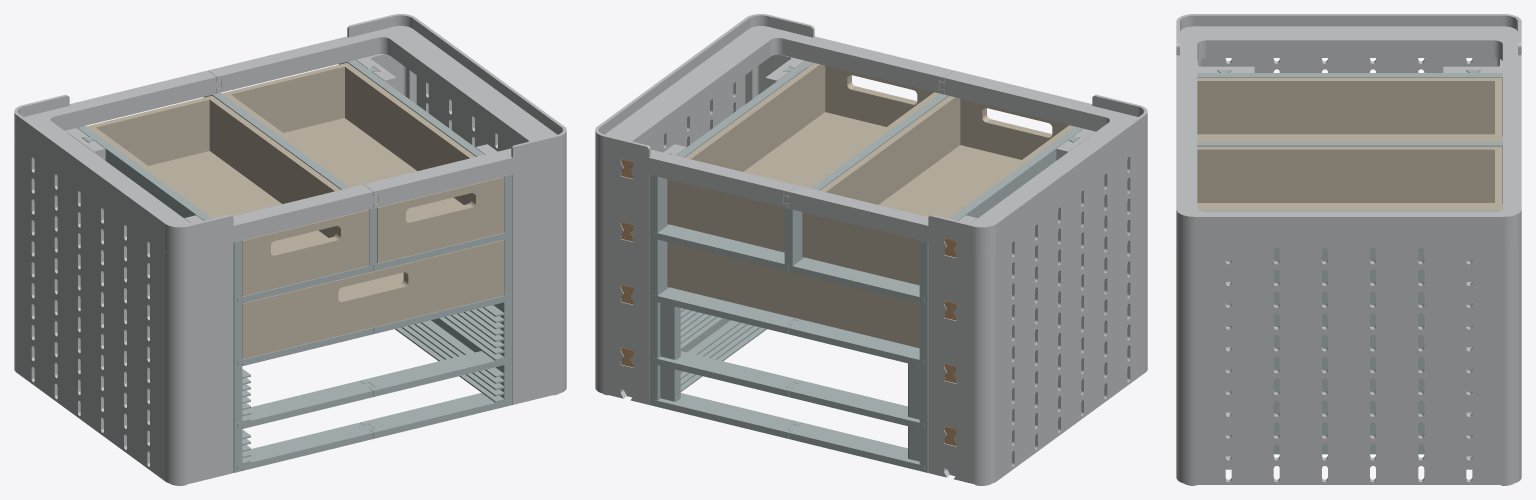
File: overstack-no-ht-pegboard.glb
3 views of the same model, side by side, from view 1: azimuth 30°, elevation 25°; view 2: azimuth 150°, elevation 25°; view 3: azimuth 270°, elevation 25° (orthographic). The views are drawn at different scales.
Visible parts, largest first — view 1: 2-drawer-layer__drawer_2, 2-drawer-layer__drawer_1, device-top__top_2, device-top__top_1, 1-drawer-layer__drawer_half_1, 2-drawer-layer__end_left_1, 1-drawer-layer__end_left_1, 8-slot-plate-layer__end_left, 5-slot-plate-layer__end_left, 2-drawer-layer__end_right_1, 8-slot-plate-layer__end_right, 1-drawer-layer__end_right_1 (+17 smaller); view 2: 2-drawer-layer__drawer_2, 2-drawer-layer__drawer_1, device-top__top_2, device-top__top_1, 2-drawer-layer__end_left_1, 1-drawer-layer__end_left_1, 8-slot-plate-layer__end_left, 1-drawer-layer__drawer_half_2, 5-slot-plate-layer__end_left, 2-drawer-layer__end_right_1, 8-slot-plate-layer__end_right, 1-drawer-layer__end_right_1 (+18 smaller); view 3: 1-drawer-layer__end_right_1, 8-slot-plate-layer__end_right, 2-drawer-layer__end_right_1, 2-drawer-layer__drawer_2, 2-drawer-layer__drawer_1, device-top__top_1, device-top__top_2, 5-slot-plate-layer__end_right, 2-drawer-layer__end_left_1, 2-drawer-layer__divider_1, 2-drawer-layer__side_left, 2-drawer-layer__side_right (+3 smaller).
Boxes of the visible parts, <box> form: 2-drawer-layer__drawer_2: <box>221,62,503,263</box>; 2-drawer-layer__drawer_1: <box>86,95,368,296</box>; device-top__top_2: <box>208,14,566,208</box>; device-top__top_1: <box>14,70,378,254</box>; 1-drawer-layer__drawer_half_1: <box>242,239,503,359</box>; 2-drawer-layer__end_left_1: <box>14,128,233,317</box>; 1-drawer-layer__end_left_1: <box>14,203,233,380</box>; 8-slot-plate-layer__end_left: <box>14,265,233,442</box>; 5-slot-plate-layer__end_left: <box>14,328,233,485</box>; 2-drawer-layer__end_right_1: <box>356,54,566,237</box>; 8-slot-plate-layer__end_right: <box>512,284,566,362</box>; 1-drawer-layer__end_right_1: <box>512,221,566,299</box>; 2-drawer-layer__drawer_2: <box>667,63,939,252</box>; 2-drawer-layer__drawer_1: <box>802,96,1074,285</box>; device-top__top_2: <box>595,14,953,208</box>; device-top__top_1: <box>783,70,1147,254</box>; 2-drawer-layer__end_left_1: <box>928,129,1147,317</box>; 1-drawer-layer__end_left_1: <box>928,203,1147,380</box>; 8-slot-plate-layer__end_left: <box>928,265,1147,442</box>; 1-drawer-layer__drawer_half_2: <box>667,242,919,348</box>; 5-slot-plate-layer__end_left: <box>928,328,1147,485</box>; 2-drawer-layer__end_right_1: <box>595,54,804,237</box>; 8-slot-plate-layer__end_right: <box>595,284,649,362</box>; 1-drawer-layer__end_right_1: <box>595,221,649,299</box>; 1-drawer-layer__end_right_1: <box>1176,295,1521,375</box>; 8-slot-plate-layer__end_right: <box>1176,360,1521,441</box>; 2-drawer-layer__end_right_1: <box>1176,238,1521,310</box>; 2-drawer-layer__drawer_2: <box>1197,146,1502,210</box>; 2-drawer-layer__drawer_1: <box>1197,78,1502,141</box>; device-top__top_1: <box>1176,14,1521,126</box>; device-top__top_2: <box>1176,126,1521,245</box>; 5-slot-plate-layer__end_right: <box>1176,426,1521,485</box>; 2-drawer-layer__end_left_1: <box>1197,58,1502,72</box>; 2-drawer-layer__divider_1: <box>1197,141,1502,204</box>; 2-drawer-layer__side_left: <box>1197,70,1502,135</box>; 2-drawer-layer__side_right: <box>1199,210,1500,279</box>.
Bounding box in the file's own units: 0.399 × 0.249 × 0.287.
